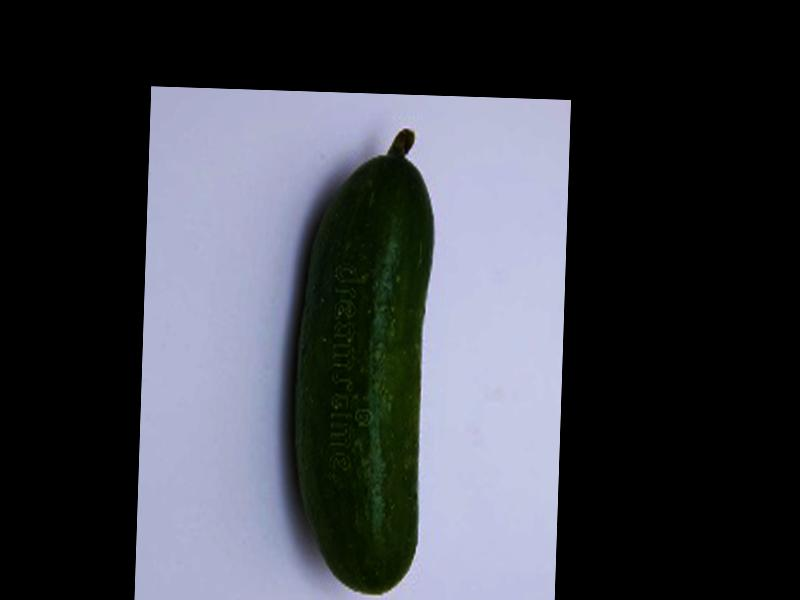Cucumber: (288, 126, 436, 596)
